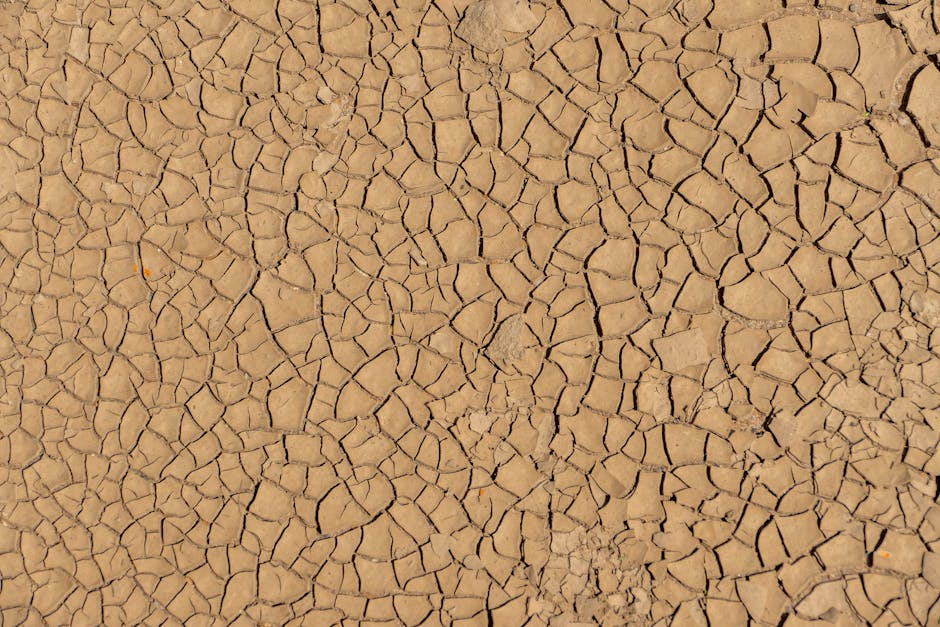网状裂隙: (39, 42, 862, 613)
